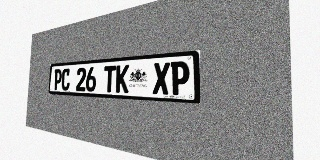2: (76, 67, 86, 91)
6: (86, 67, 97, 92)
C: (61, 68, 70, 91)
K: (116, 65, 129, 93)
P: (170, 61, 190, 95), (53, 69, 62, 90)
T: (103, 65, 116, 92)
X: (153, 62, 170, 95)
